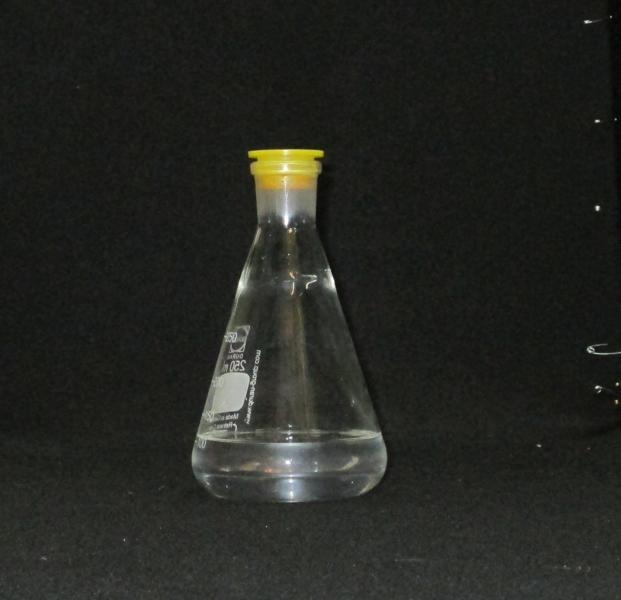Titrarion: (190, 134, 391, 504)
